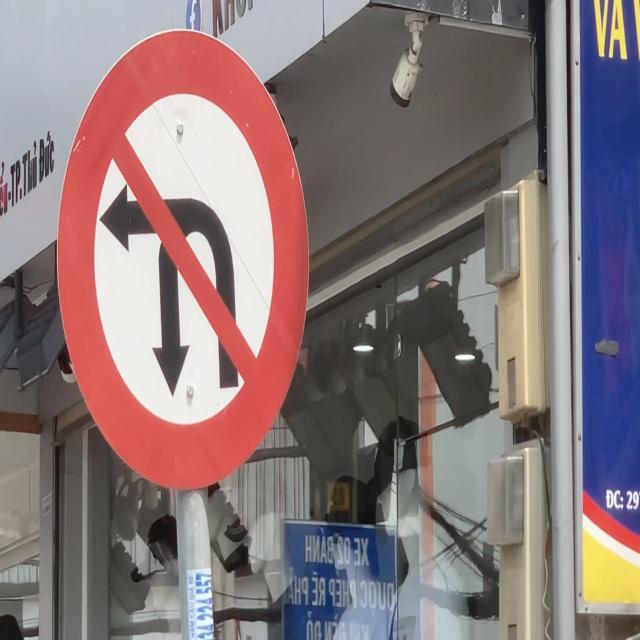Cam con lai: (54, 26, 314, 497)
